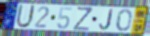2: (33, 6, 50, 29)
5: (56, 6, 73, 30)
J: (98, 9, 114, 31)
O: (116, 8, 133, 33)
U: (14, 3, 37, 30)
Z: (72, 6, 93, 32)
